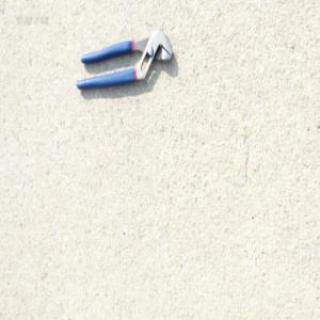Pliertrack_idkeyframe: (75, 27, 174, 94)
